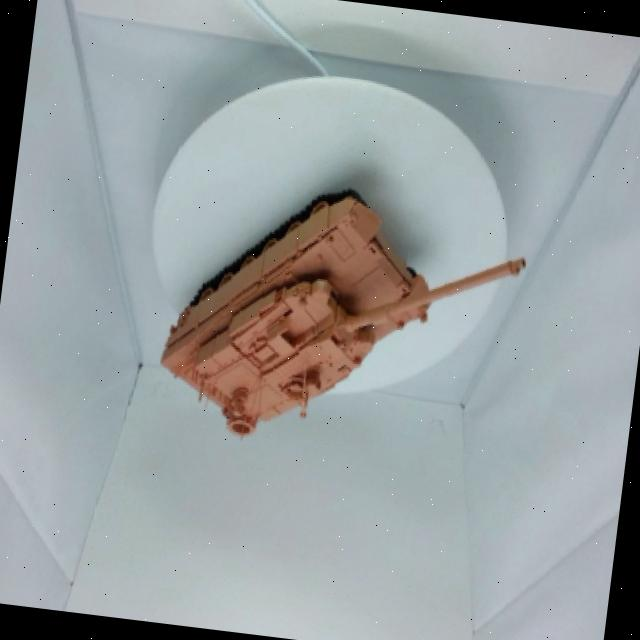korea tank: (138, 141, 541, 494)
